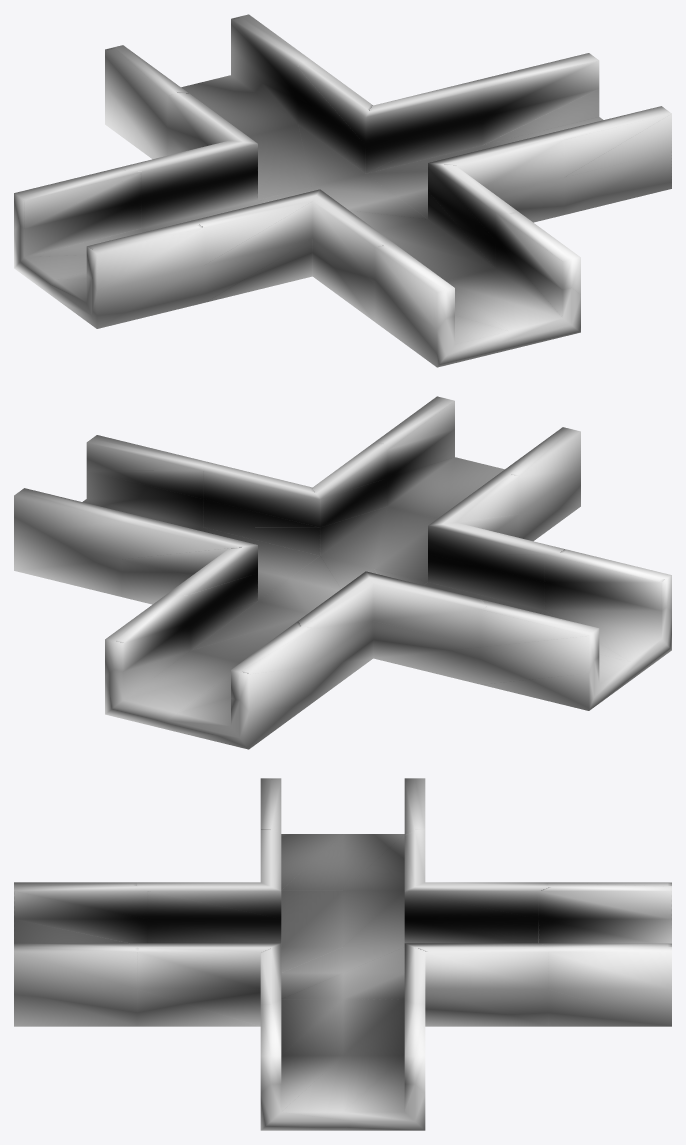
The picture shows the model from 3 angles, top to bottom: view 1: azimuth 30°, elevation 25°; view 2: azimuth 150°, elevation 25°; view 3: azimuth 270°, elevation 25°; orthographic projection.
Visible parts, largest first — view 1: defaultobject; view 2: defaultobject; view 3: defaultobject.
Boxes of the visible parts, <box> form: defaultobject: <box>14,14,671,367</box>; defaultobject: <box>14,396,671,749</box>; defaultobject: <box>14,778,671,1130</box>.
Bounding box in the file's own units: 1 × 0.125 × 1.
Materials: 1 (1 with a texture image).
